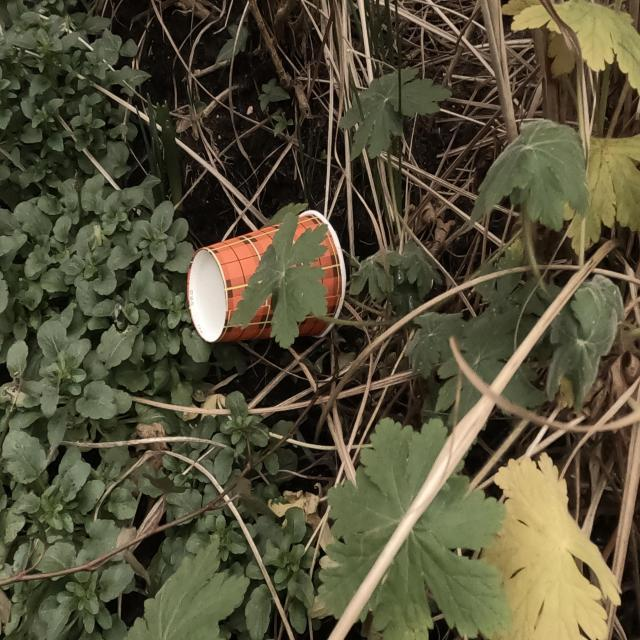Cup: (188, 210, 350, 354)
